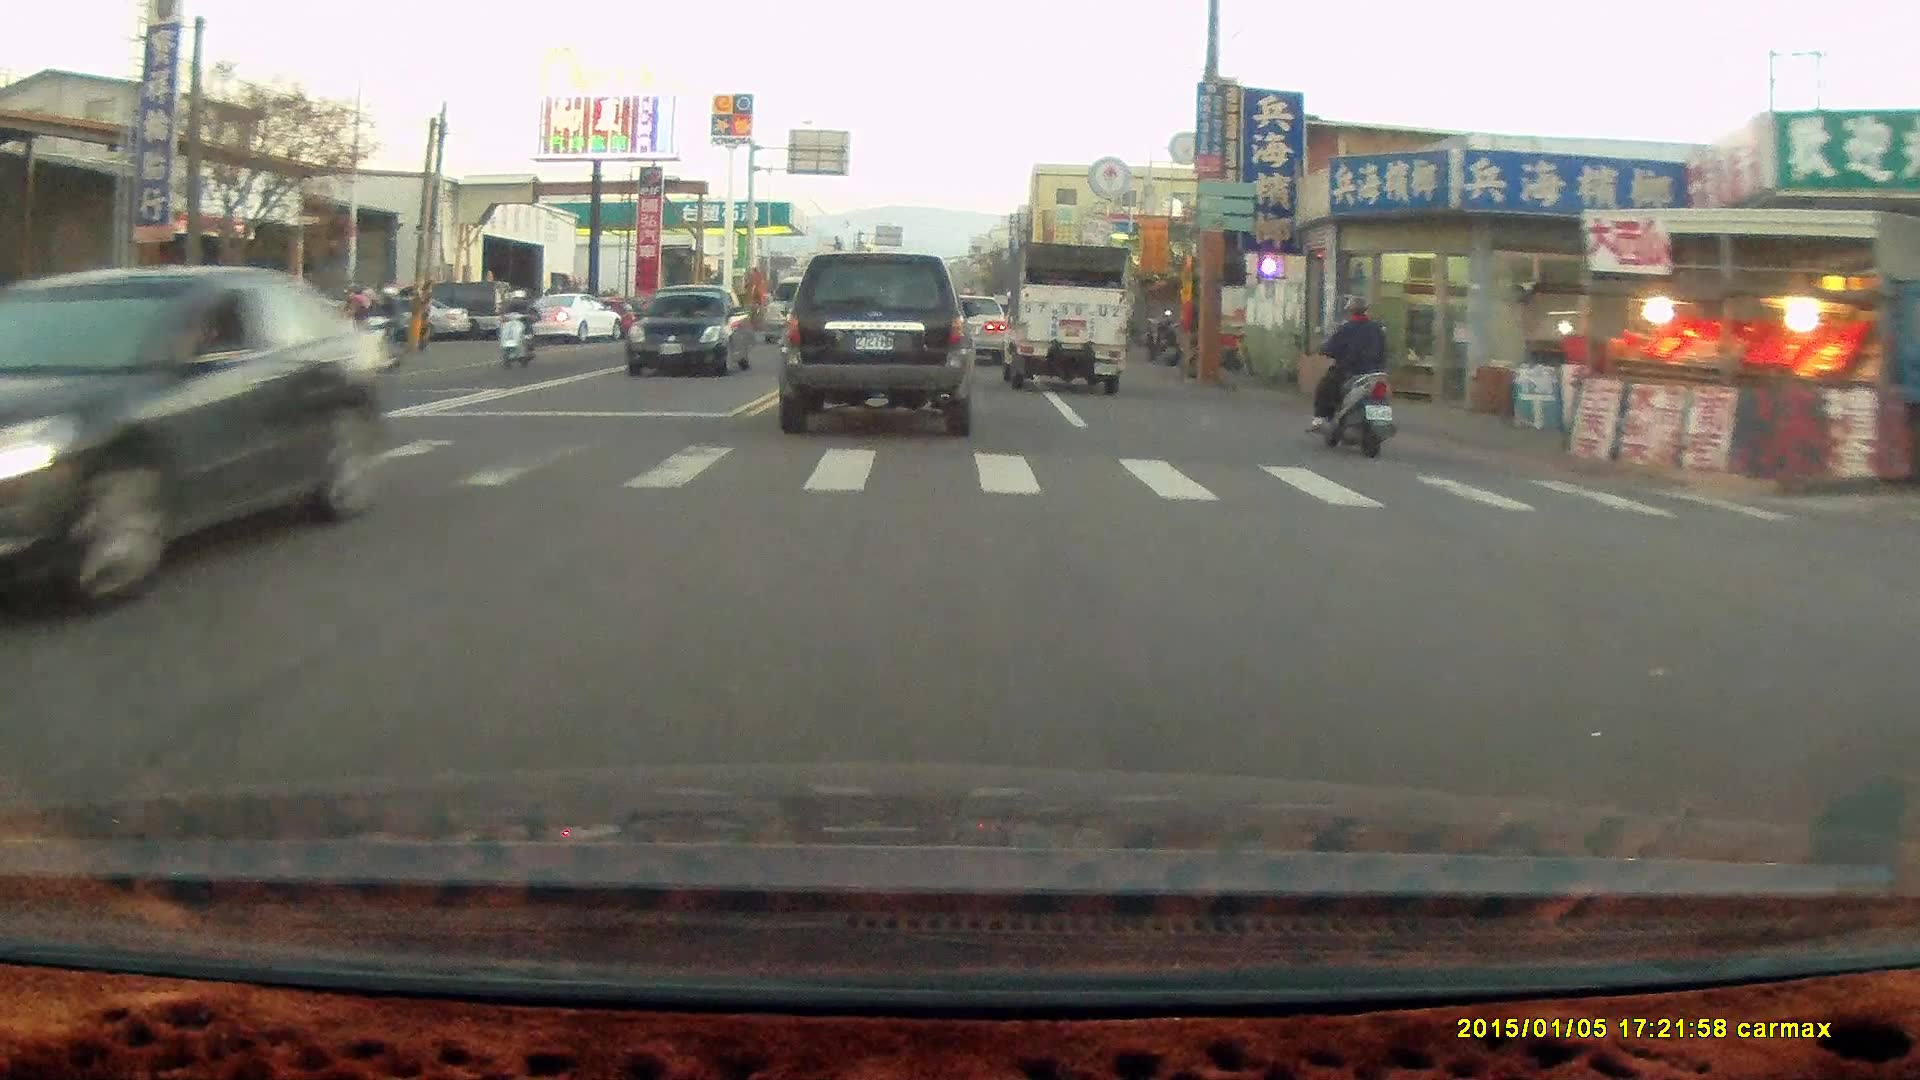rider: (1304, 293, 1396, 459), (343, 285, 413, 381), (498, 283, 542, 364)
vehicle: (1, 263, 390, 632), (773, 251, 982, 438), (997, 238, 1130, 394), (629, 283, 756, 378), (760, 274, 850, 344), (934, 292, 1009, 366), (525, 291, 623, 348)
